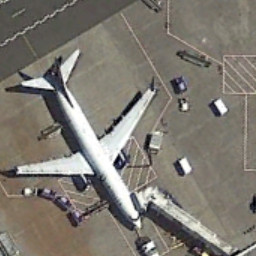Airplane: (8, 46, 157, 235)
